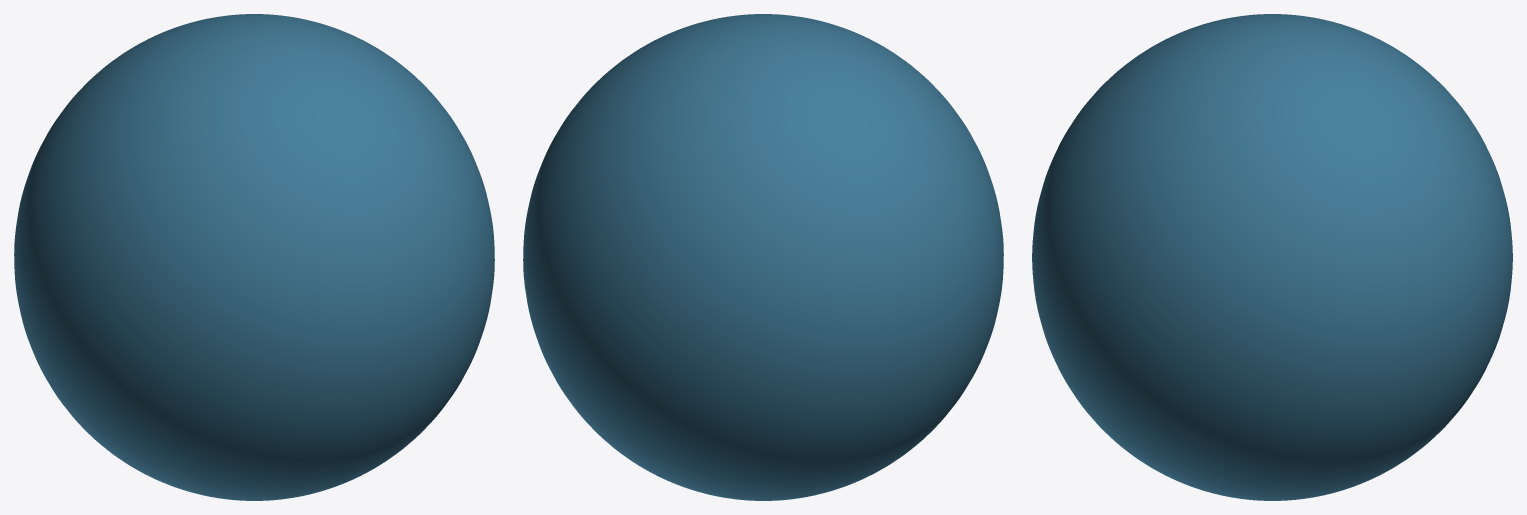
3 renders of one model, left to right at view 1: azimuth 30°, elevation 25°; view 2: azimuth 150°, elevation 25°; view 3: azimuth 270°, elevation 25°, orthographic.
Parts seen in each view (by area): view 1: g; view 2: g; view 3: g.
Part boxes in pixels (left/top/right/bottom): g: left=14, top=14, right=494, bottom=500; g: left=523, top=14, right=1003, bottom=500; g: left=1032, top=14, right=1512, bottom=500.
Size of the model in its own units: 1.96 by 2 by 1.96.
Materials: 1 (1 with a texture image).
